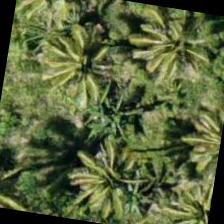Kelapa_Sawit: (29, 9, 132, 112), (52, 129, 156, 223), (140, 5, 223, 97), (158, 97, 223, 196), (11, 0, 95, 45)
